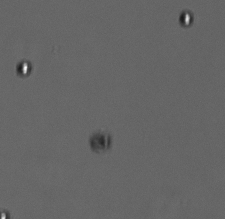Dead Cell: (89, 131, 112, 153)
Living Cell: (15, 57, 33, 78), (177, 9, 195, 29)
